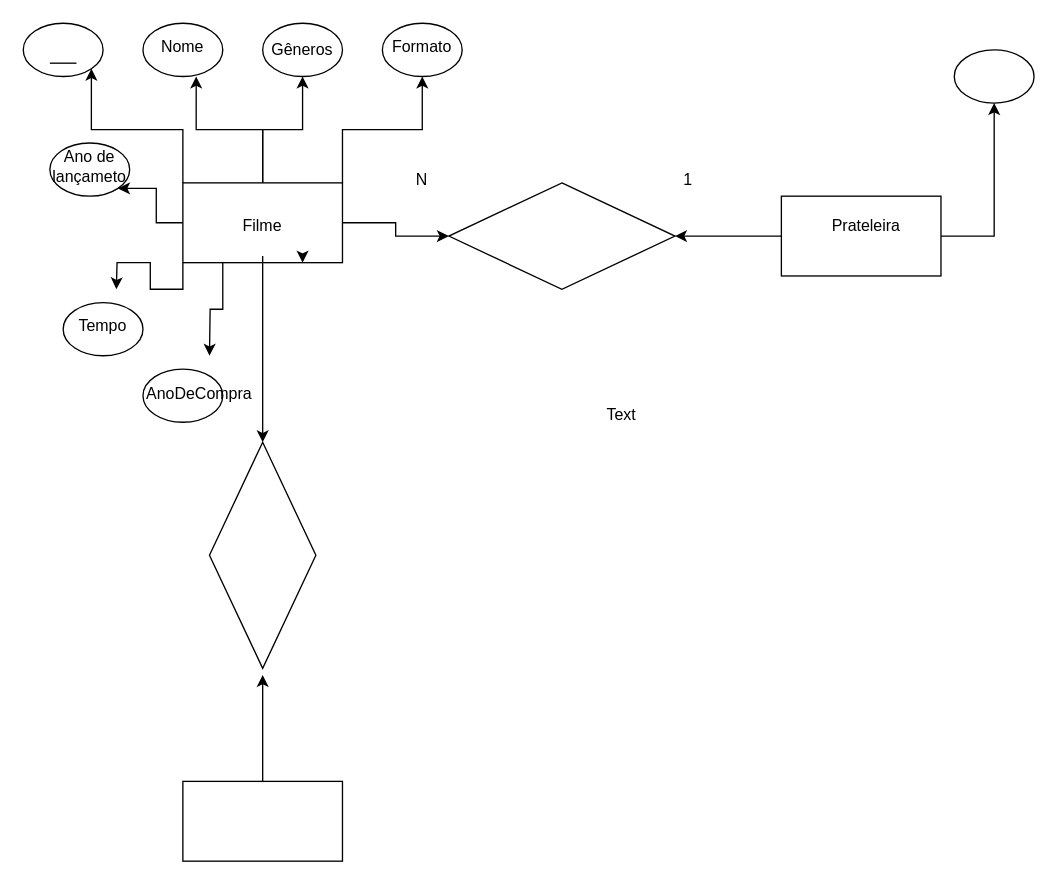
Image size: 1061x884. Some labels were removed from this diagram. The box of each missing label's shape, as (x1, y1, x2, y2) in pixels:
Armazenar: (448, 182, 675, 289)
Ator: (182, 780, 342, 861)
ID: (22, 22, 103, 76)
id_prateleira: (953, 49, 1034, 103)
